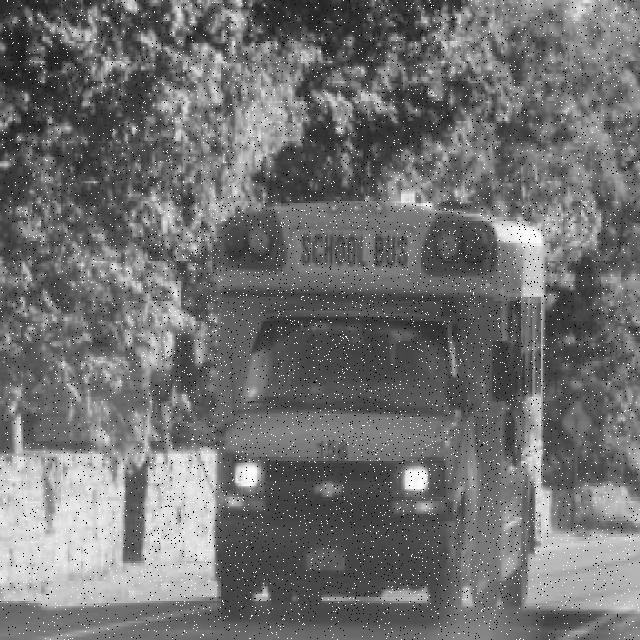Bus- Small: (149, 202, 549, 620)
